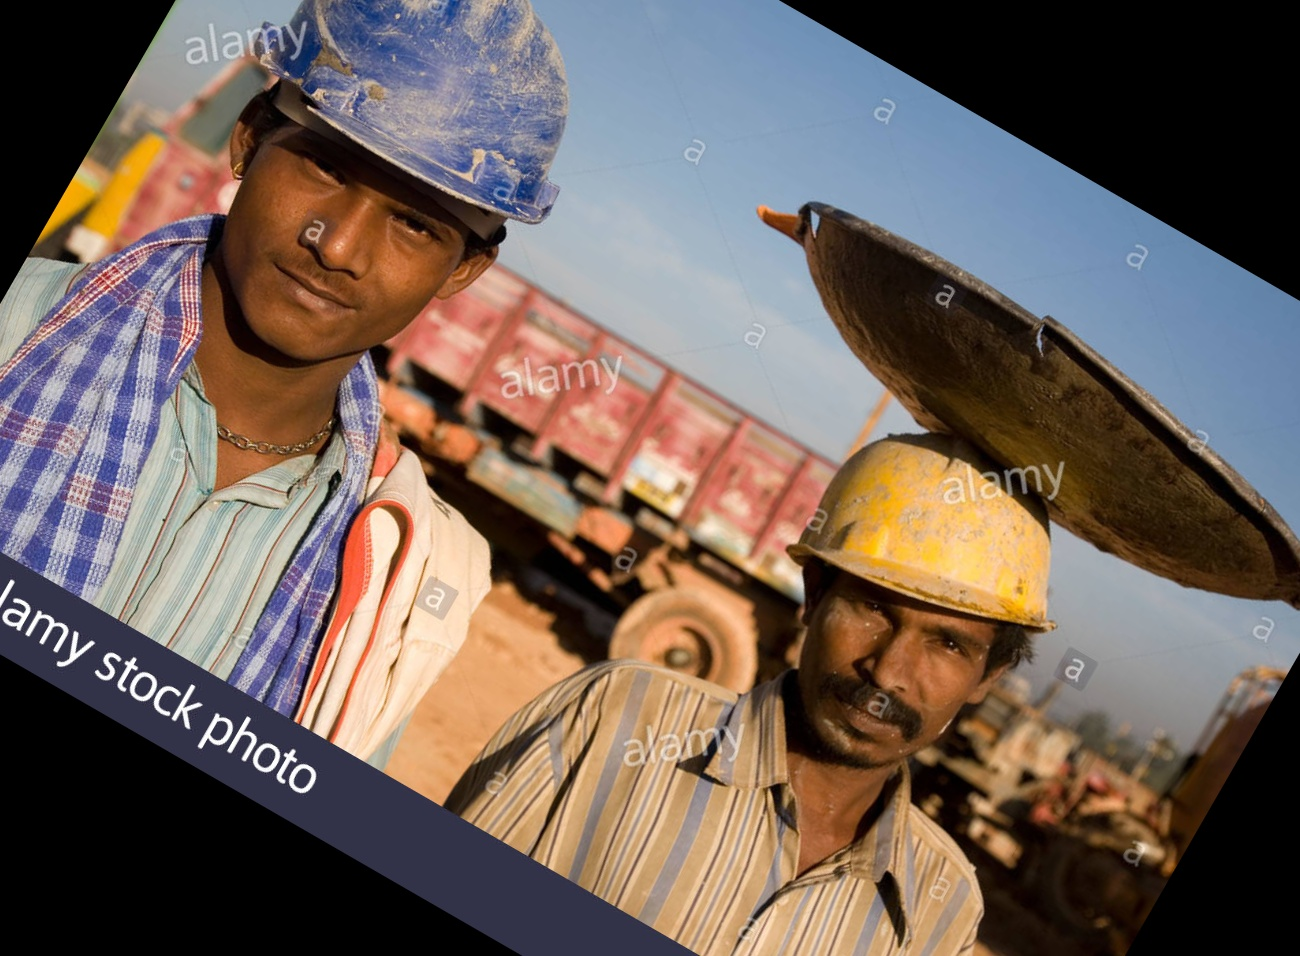NoJacket: (83, 4, 563, 626), (586, 450, 1008, 928)
